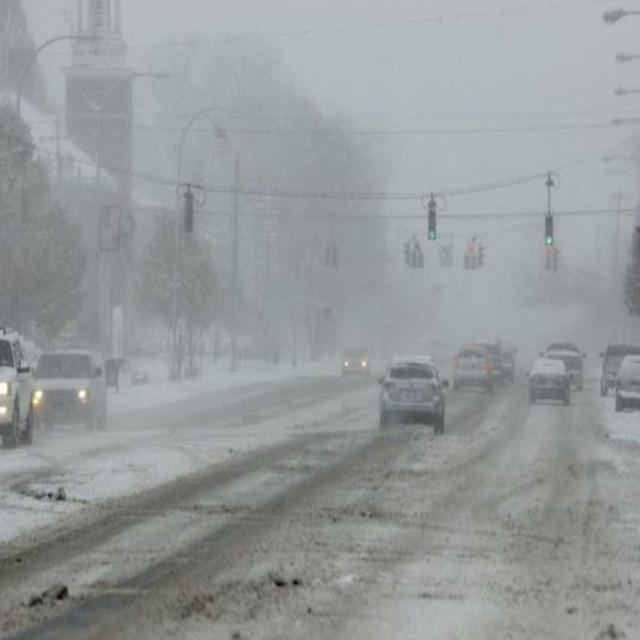Car: (30, 349, 104, 429), (376, 357, 449, 436), (526, 356, 572, 404), (450, 342, 492, 388), (340, 343, 370, 377)
